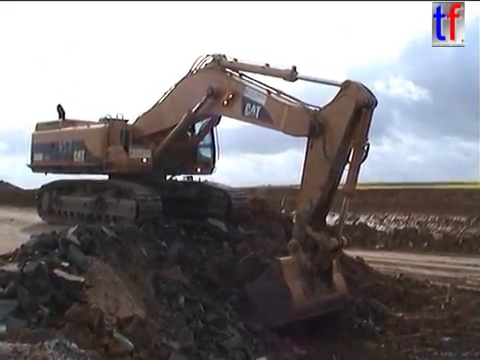excavator: (23, 51, 380, 329)
